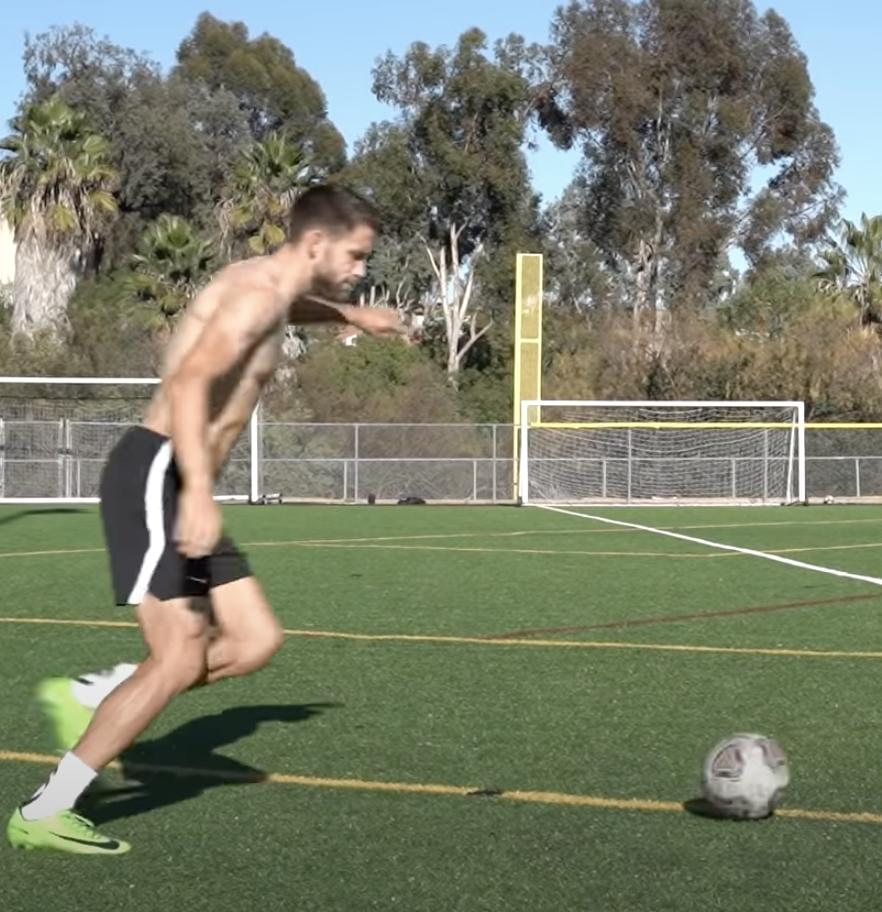ball: (705, 734, 789, 818)
foot: (7, 807, 133, 857), (33, 670, 97, 751)
person: (9, 186, 401, 858)
